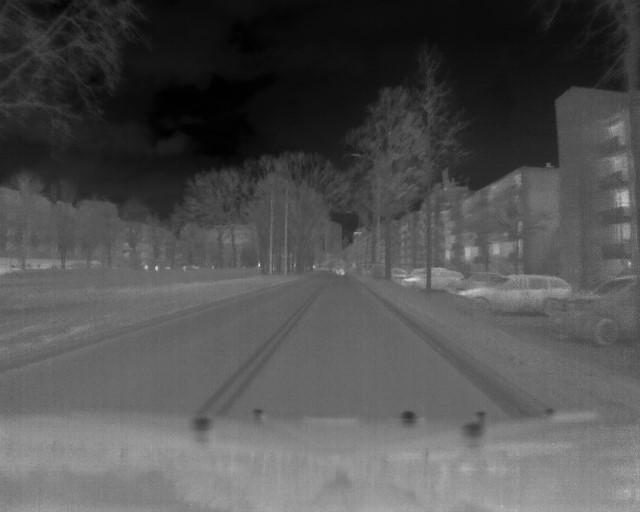car: (550, 280, 639, 345), (462, 272, 574, 315), (401, 271, 463, 290)
